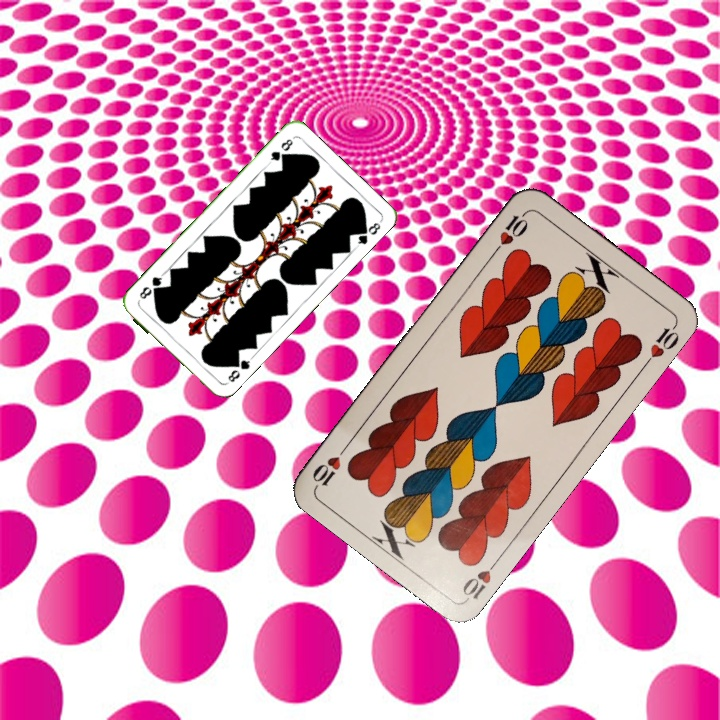G8: (264, 135, 296, 167), (224, 353, 254, 385)
H10: (458, 553, 503, 603), (488, 207, 531, 258)
